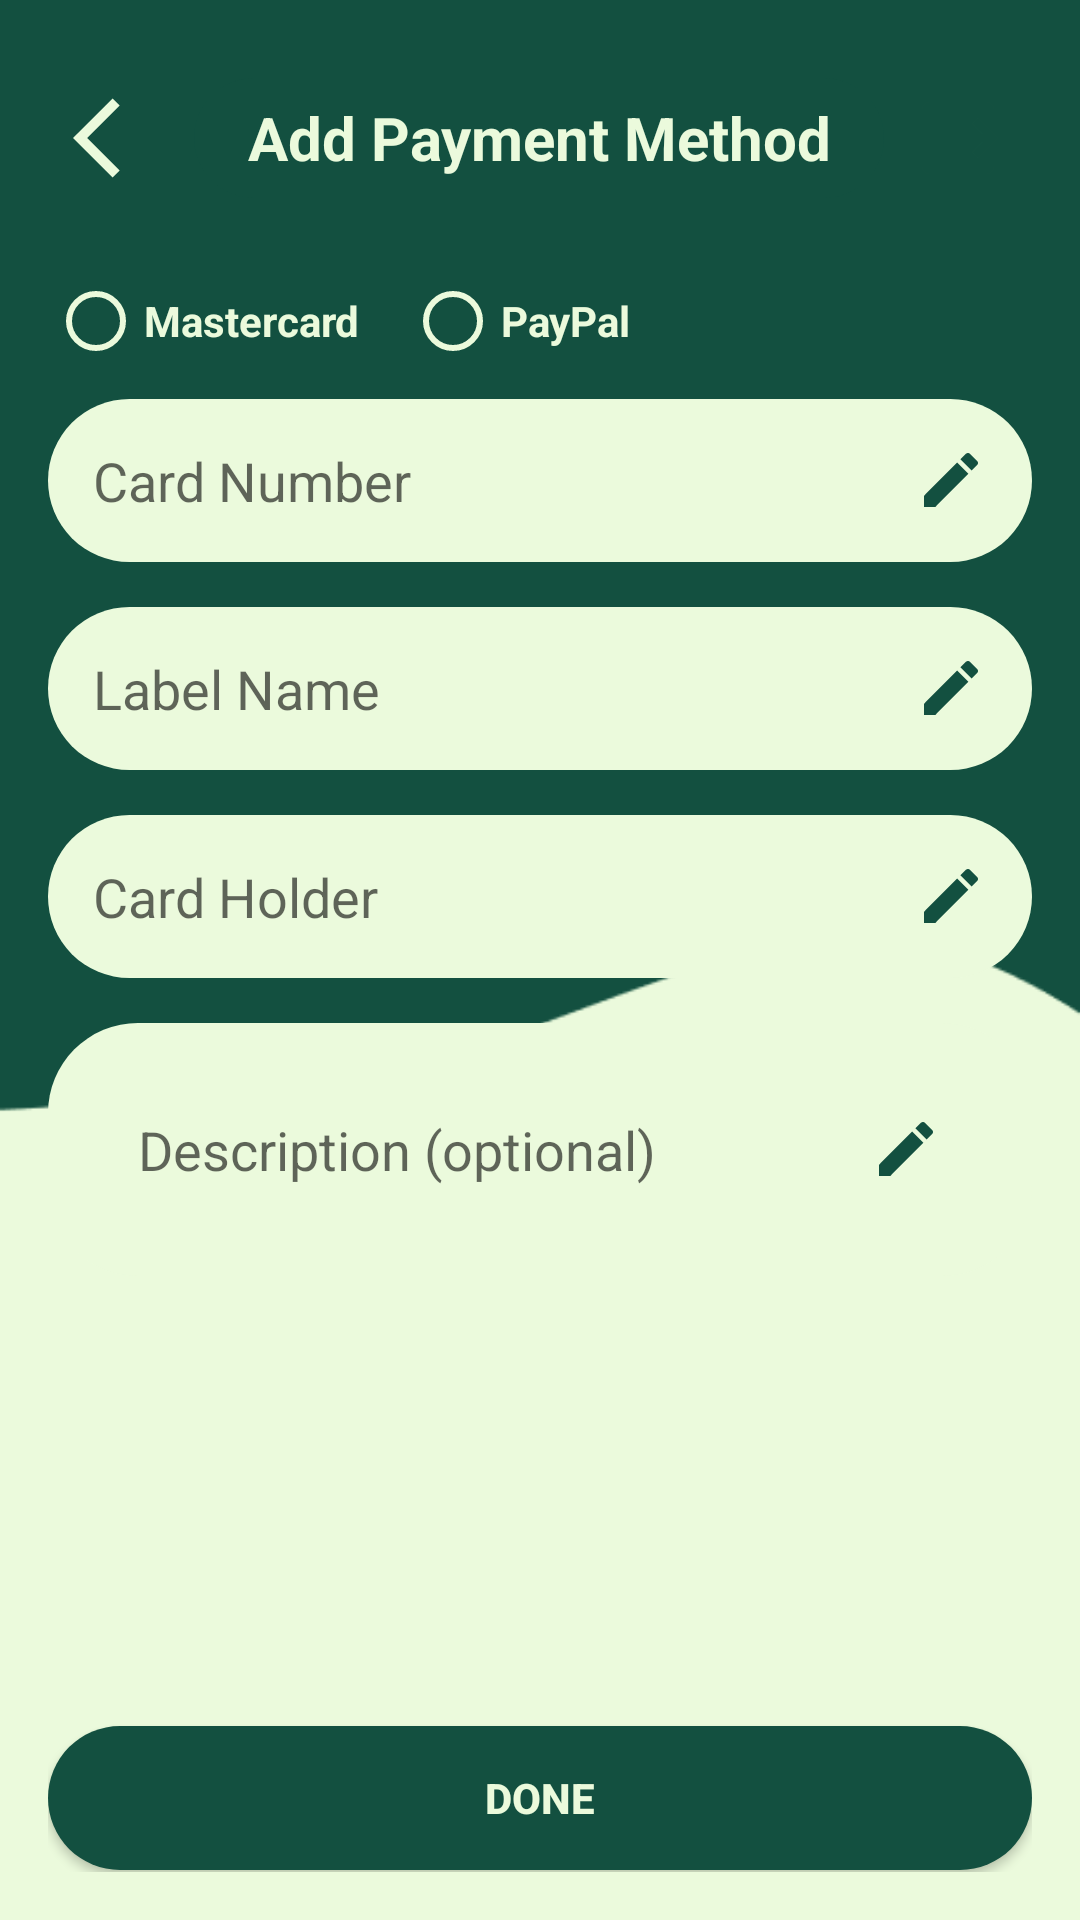

Named icons in this screenshot (1080w x 1920h) and their bounding boxes, (x1, y1, x2, y2):
Left Icon: (73, 98, 120, 178)
